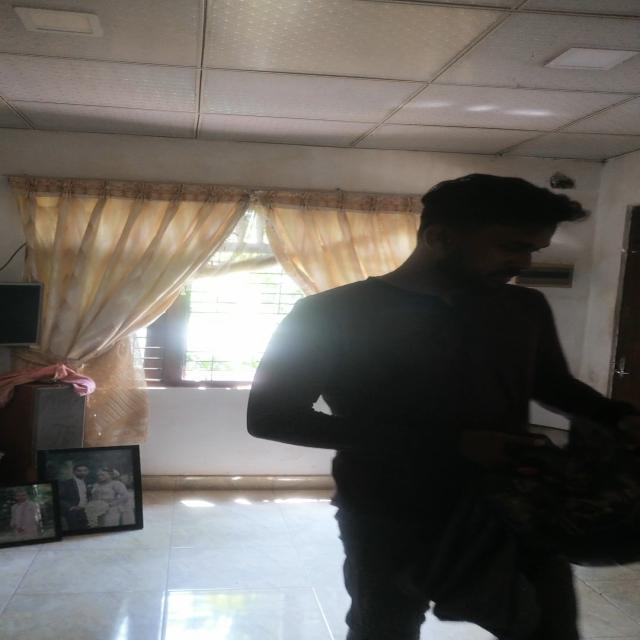Person: (246, 169, 630, 640)
